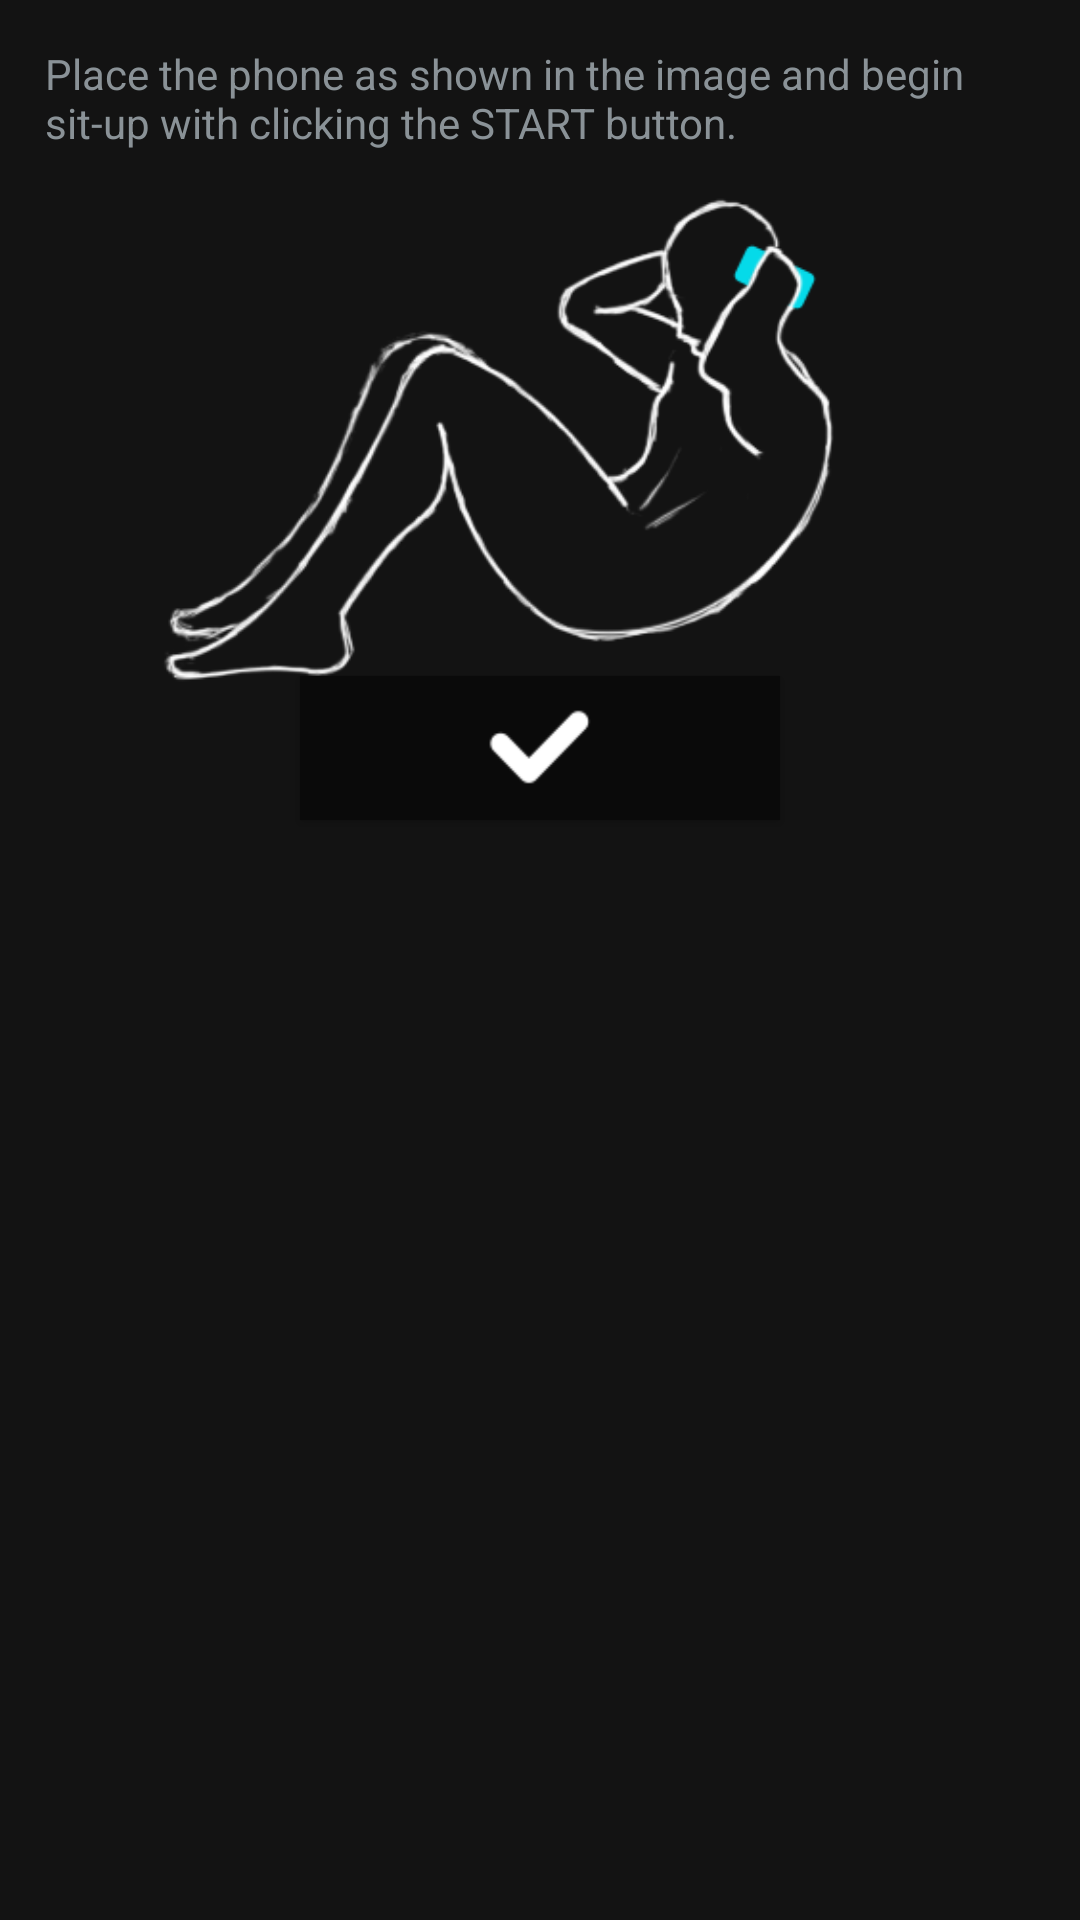

Locate icon controls on the screen. Image size 1080 x 1920, boxes as bbox(x1, y1, x2, y2).
setting dialog confirm: bbox(489, 710, 590, 784)
